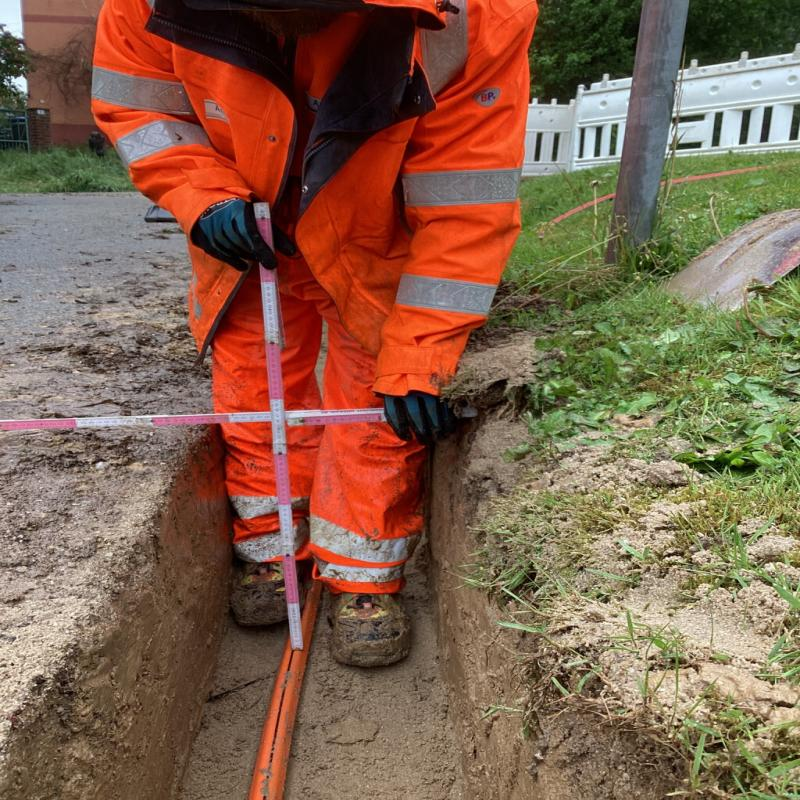Orang-Speednetrohrchen: (250, 589, 319, 798)
